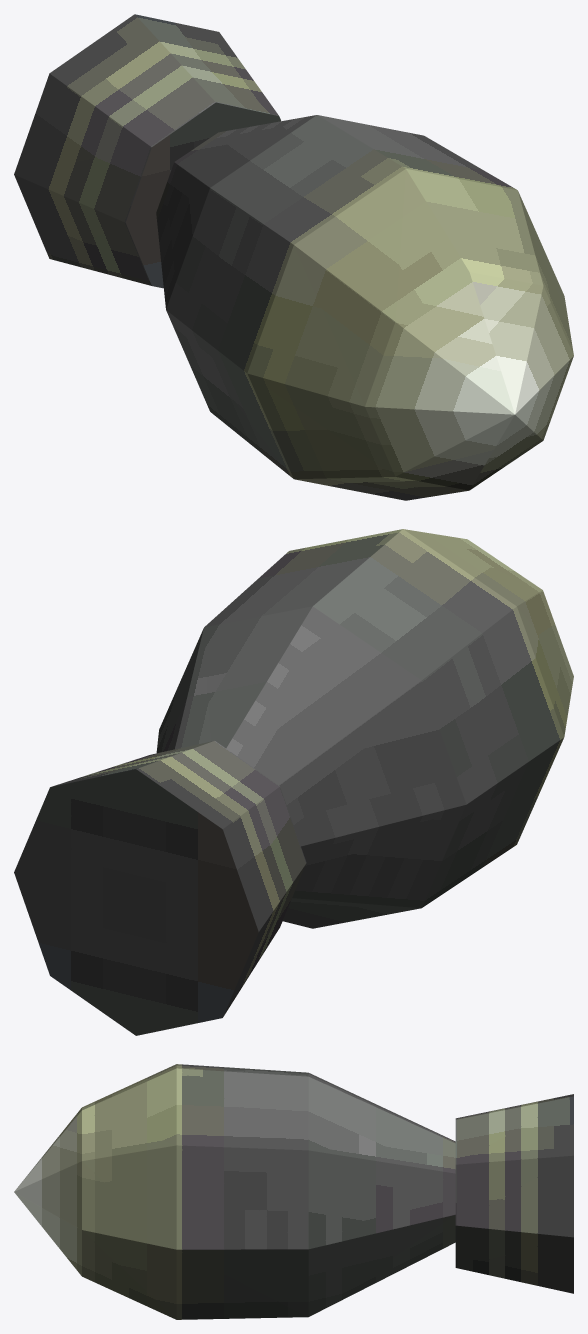
File: N_shell.bgf.obj
3 renders of one model, top to bottom at view 1: azimuth 30°, elevation 25°; view 2: azimuth 150°, elevation 25°; view 3: azimuth 270°, elevation 25°, orthographic. The views are drawn at different scales.
Parts seen in each view (by area): view 1: DUMMY; view 2: DUMMY; view 3: DUMMY.
Part boxes in pixels (bbox=[...]): DUMMY: bbox=[14, 14, 573, 500]; DUMMY: bbox=[14, 529, 573, 1035]; DUMMY: bbox=[14, 1064, 573, 1319].
Bounding box in the file's own units: 0.51 × 0.51 × 1.05.
Materials: 1 (1 with a texture image).
